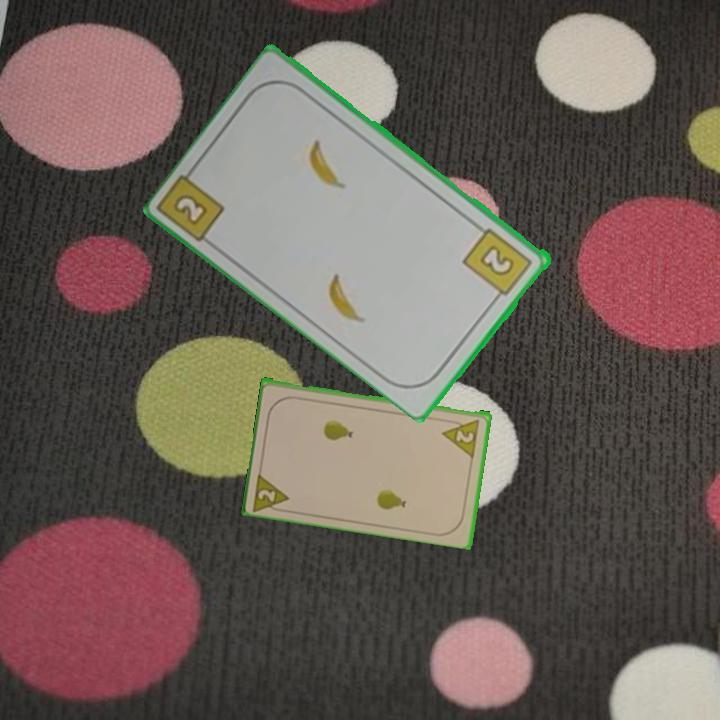2b: (460, 224, 536, 304), (170, 190, 212, 229)
2p: (249, 468, 293, 515), (439, 415, 483, 458)
